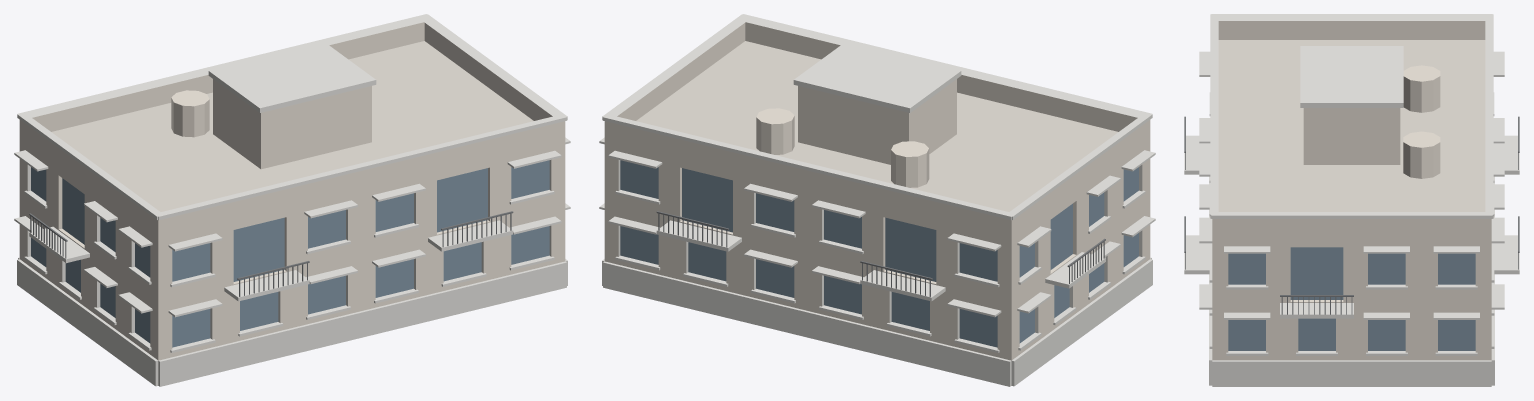
Rendered from West_Building_3.fbx.
3 renders of one model, left to right at view 1: azimuth 30°, elevation 25°; view 2: azimuth 150°, elevation 25°; view 3: azimuth 270°, elevation 25°, orthographic.
Parts seen in each view (by area): view 1: West_Building_3; view 2: West_Building_3; view 3: West_Building_3.
Part boxes in pixels (<box>): West_Building_3: <box>14,14,570,386</box>; West_Building_3: <box>599,14,1155,386</box>; West_Building_3: <box>1184,14,1519,386</box>.
Bounding box in the file's own units: 24.6 × 10.85 × 15.6.
